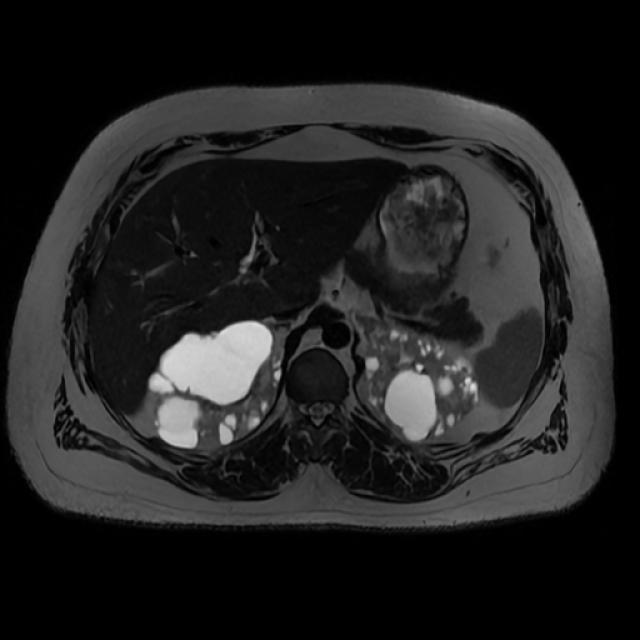sag: (152, 323, 280, 447)
sol: (366, 325, 480, 440)
